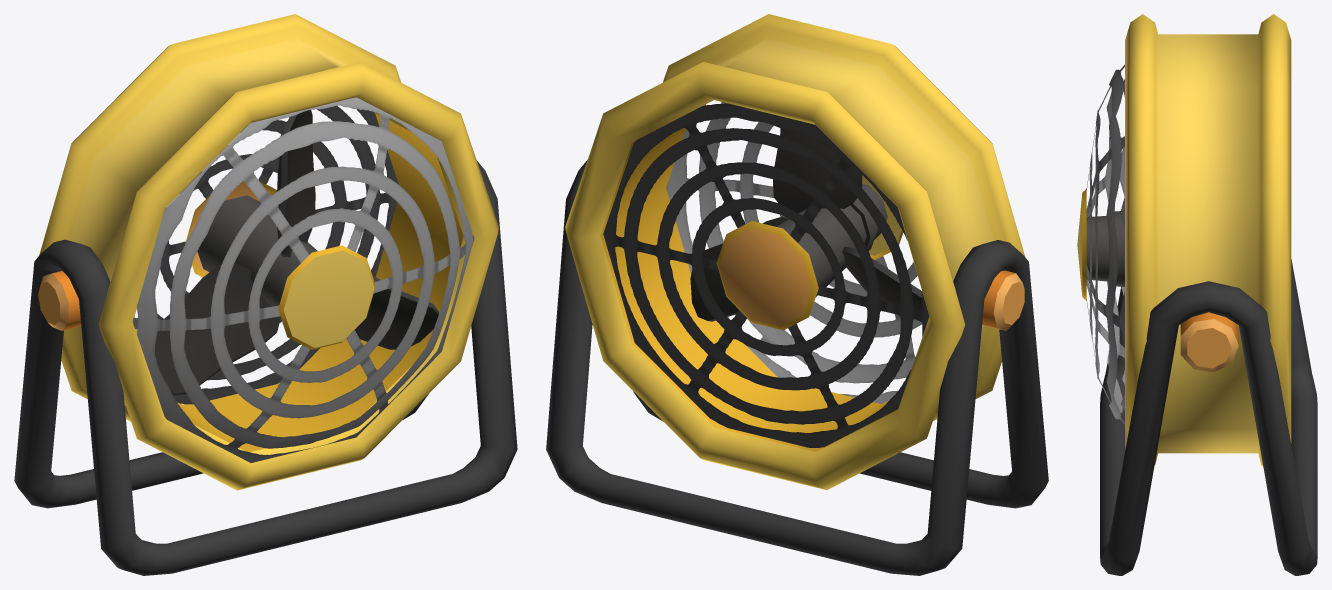
Rendered from Electric_fan.FBX.
The picture shows the model from 3 angles, left to right: view 1: azimuth 30°, elevation 25°; view 2: azimuth 150°, elevation 25°; view 3: azimuth 270°, elevation 25°; orthographic projection.
Visible parts, largest first — view 1: Cylinder002, Object080; view 2: Cylinder002, Object080; view 3: Cylinder002, Object080.
Part boxes in pixels (bbox=[...]): Cylinder002: bbox=[14, 14, 517, 575]; Object080: bbox=[155, 110, 438, 395]; Cylinder002: bbox=[546, 14, 1048, 575]; Object080: bbox=[690, 123, 922, 321]; Cylinder002: bbox=[1077, 14, 1317, 575]; Object080: bbox=[1086, 211, 1124, 287].
Size of the model in its own units: 49.79 by 23.88 by 49.43.
